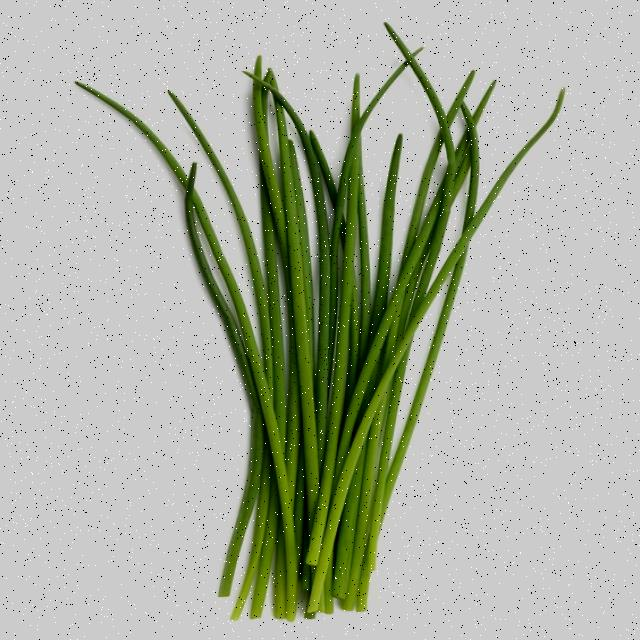Onion Leaves: (61, 22, 613, 536)
